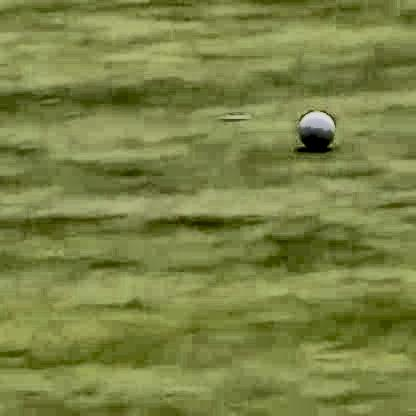golfball: (295, 106, 332, 145)
